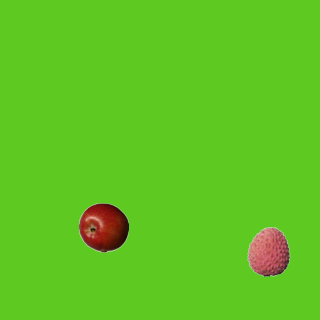Apple Braeburn: (78, 202, 128, 252)
Lychee: (243, 226, 293, 276)
